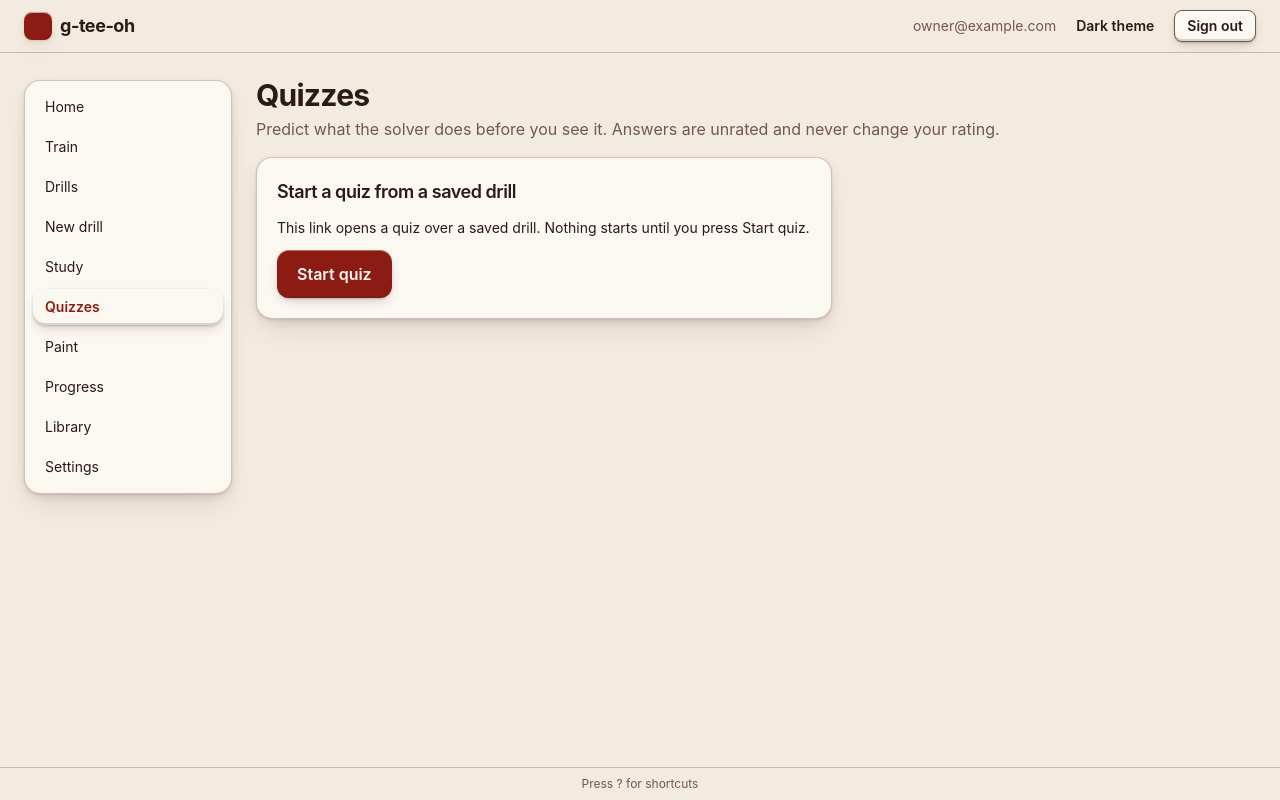
R3.16 /quiz renders each answer kind › R3.16 band: the four frequency bands
Click the button "Start quiz" at [334, 274], box [277, 250, 392, 298]
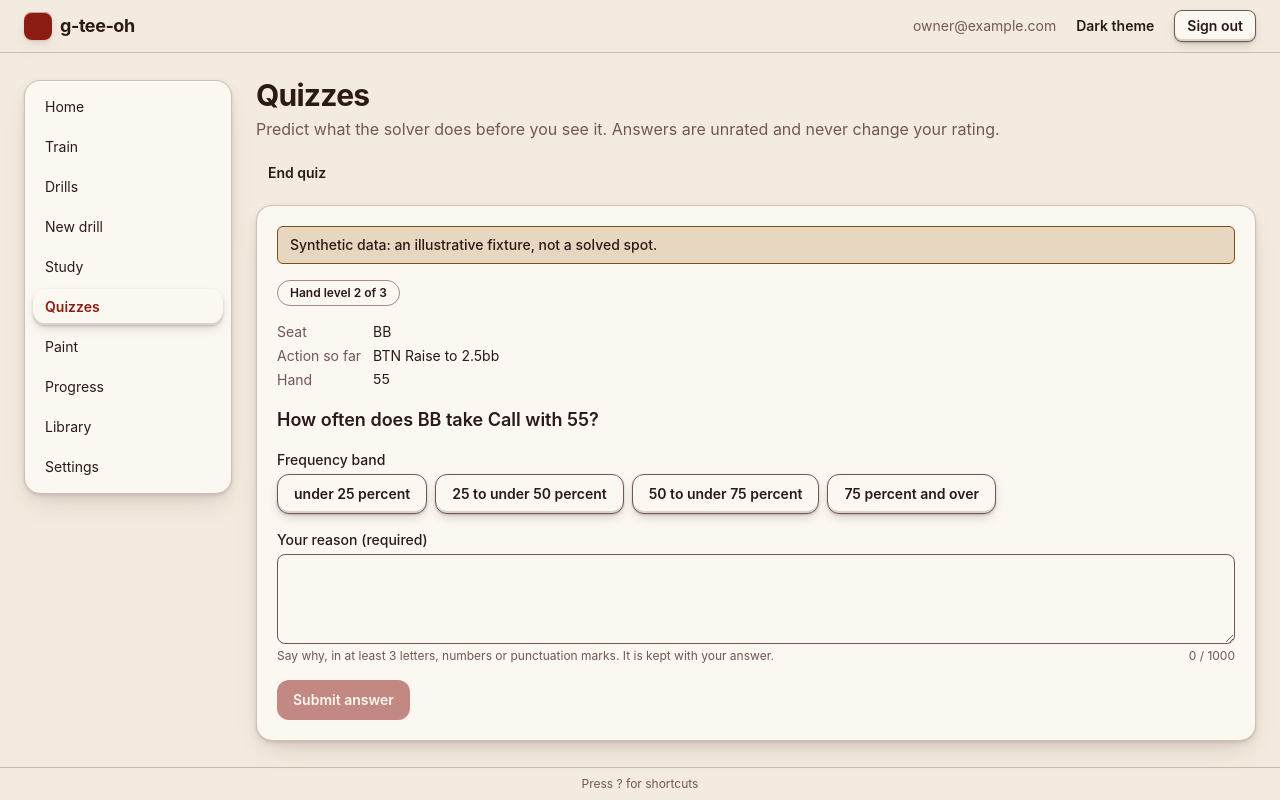
Check: the buttons read "under 25 percent", "25 to under 50 percent", "50 to under 75 percent", "75 percent and over", in this order, box [277, 474, 427, 514]; [435, 474, 624, 514]; [632, 474, 819, 514]; [827, 474, 996, 514]
